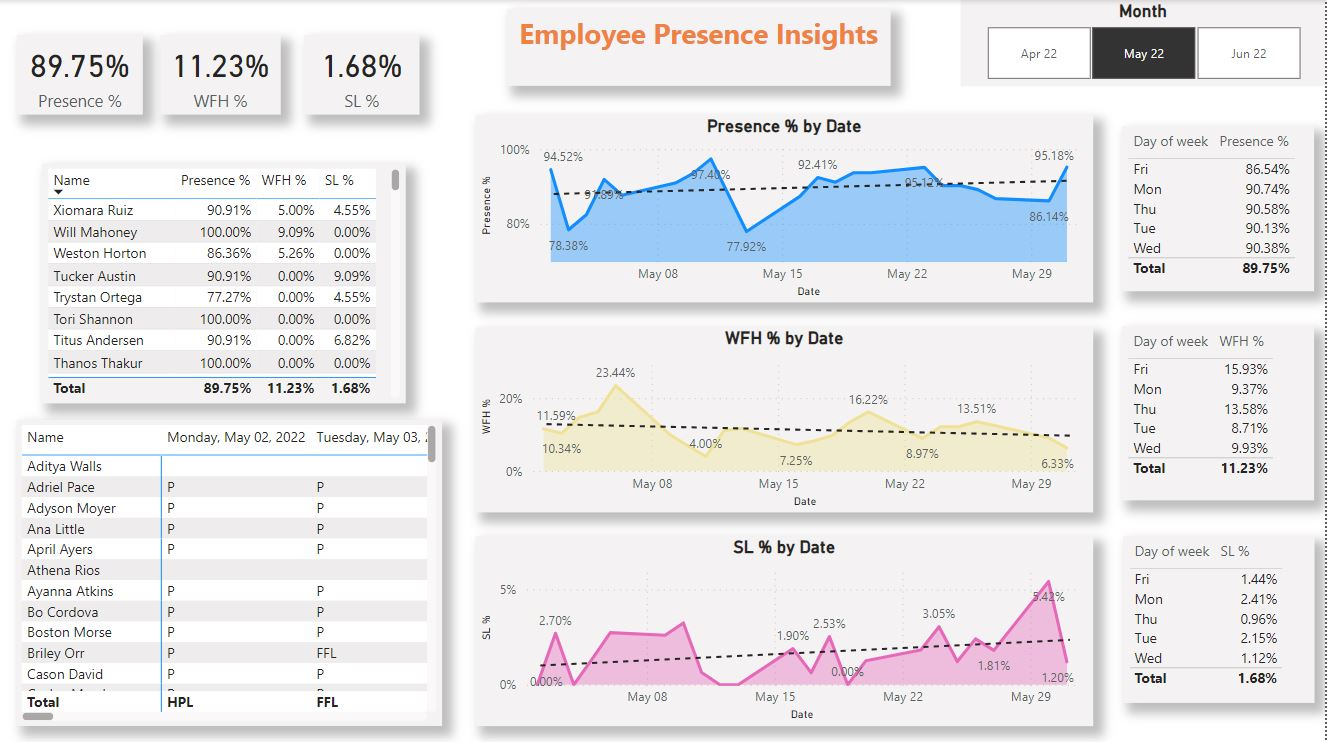

Layout of this report page (visuals, bound fields, positions):
{"tool":"powerbi","page":{"name":"Page 1","canvas":[1280,720],"ordinal":0},"visuals":[{"type":"card","fields":{"Values":["Measure Table.Presence %"]},"box":[18.1,33.8,121.8,77.2],"z":0},{"type":"slicer","title":"Month","fields":{"Values":["Final Data.Month"]},"box":[928.6,0,352.2,83.2],"z":1000},{"type":"card","fields":{"Values":["Measure Table.WFH %"]},"box":[156.8,33.8,115.8,77.2],"z":2000},{"type":"card","fields":{"Values":["Measure Table.SL %"]},"box":[295.5,33.8,111,77.2],"z":3000},{"type":"tableEx","fields":{"Values":["Final Data.Name","Measure Table.Presence %","Measure Table.WFH %","Measure Table.SL %"]},"box":[42.2,158,351,231.6],"z":4000},{"type":"pivotTable","fields":{"Rows":["Final Data.Name"],"Values":["Min(Final Data.Value)"],"Columns":["Final Data.Date"]},"box":[18.1,405.2,410.1,295.5],"z":5000},{"type":"areaChart","fields":{"Category":["Final Data.Date"],"Y":["Measure Table.WFH %"]},"box":[460.7,316,595.8,178.5],"z":6000},{"type":"areaChart","fields":{"Category":["Final Data.Date"],"Y":["Measure Table.Presence %"]},"box":[460.7,111,595.8,180.9],"z":7000},{"type":"areaChart","fields":{"Category":["Final Data.Date"],"Y":["Measure Table.SL %"]},"box":[460.7,517.4,595.8,183.3],"z":8000},{"type":"tableEx","fields":{"Values":["Final Data.Day of week","Measure Table.Presence %"]},"box":[1084.2,121.8,185.7,159.2],"z":9000},{"type":"tableEx","fields":{"Values":["Final Data.Day of week","Measure Table.WFH %"]},"box":[1084.2,314.8,185.7,167.6],"z":10000},{"type":"tableEx","fields":{"Values":["Final Data.Day of week","Measure Table.SL %"]},"box":[1085.4,517.4,184.5,160.4],"z":11000},{"type":"textbox","box":[490.9,8.4,370.3,74.8],"z":12000}]}

Visuals, with their boxes in screenshot pixels (x1, y1, x2, y2), scaled from the page's 1280x720 canvas onto the 1327x742 screenshot:
card - Measure Table.Presence %: {"left": 19, "top": 35, "right": 145, "bottom": 114}
"Month" slicer: {"left": 963, "top": 0, "right": 1326, "bottom": 86}
card - Measure Table.WFH %: {"left": 163, "top": 35, "right": 283, "bottom": 114}
card - Measure Table.SL %: {"left": 306, "top": 35, "right": 421, "bottom": 114}
tableEx - Final Data.Name x Measure Table.Presence %: {"left": 44, "top": 163, "right": 408, "bottom": 402}
pivotTable - Final Data.Name x Min(Final Data.Value): {"left": 19, "top": 418, "right": 444, "bottom": 722}
areaChart - Final Data.Date x Measure Table.WFH %: {"left": 478, "top": 326, "right": 1095, "bottom": 510}
areaChart - Final Data.Date x Measure Table.Presence %: {"left": 478, "top": 114, "right": 1095, "bottom": 301}
areaChart - Final Data.Date x Measure Table.SL %: {"left": 478, "top": 533, "right": 1095, "bottom": 722}
tableEx - Final Data.Day of week x Measure Table.Presence %: {"left": 1124, "top": 126, "right": 1317, "bottom": 290}
tableEx - Final Data.Day of week x Measure Table.WFH %: {"left": 1124, "top": 324, "right": 1317, "bottom": 497}
tableEx - Final Data.Day of week x Measure Table.SL %: {"left": 1125, "top": 533, "right": 1317, "bottom": 699}
textbox: {"left": 509, "top": 9, "right": 893, "bottom": 86}
